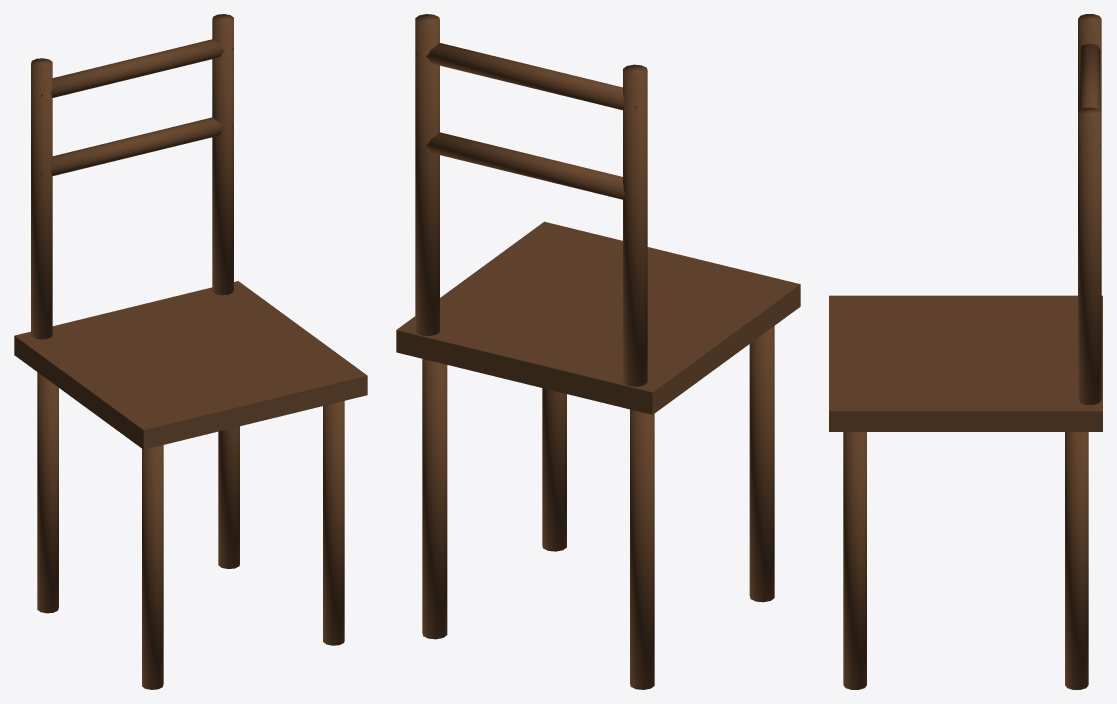
The model's file is bistrostuhl.glb.
3 renders of one model, left to right at view 1: azimuth 30°, elevation 25°; view 2: azimuth 150°, elevation 25°; view 3: azimuth 270°, elevation 25°, orthographic. The views are drawn at different scales.
Visible parts, largest first — view 1: bistrostuhl; view 2: bistrostuhl; view 3: bistrostuhl.
Part boxes in pixels (x1=…): bistrostuhl: x1=14, y1=14, x2=367, y2=689; bistrostuhl: x1=396, y1=14, x2=800, y2=689; bistrostuhl: x1=829, y1=14, x2=1102, y2=689.
Size of the model in its own units: 0.42 by 0.97 by 0.42.
